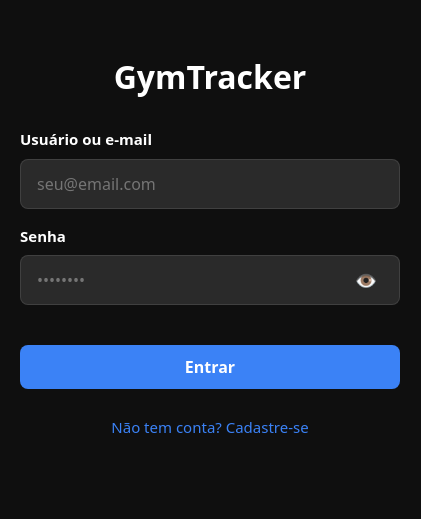
Test: LoginPage › alterna para o modo de cadastro
What coordinates should you click on to do the following:
click the button "Não tem conta? Cadastre-se"
I would click on:
 (210, 427)
Its box is [20, 405, 400, 449].
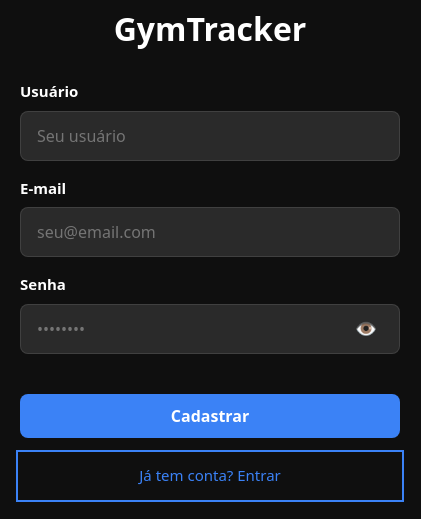
Expected: the button "Cadastrar" is shown, [20, 394, 400, 438]
Expected: the field labelled "E-mail" is shown, [20, 207, 400, 257]
